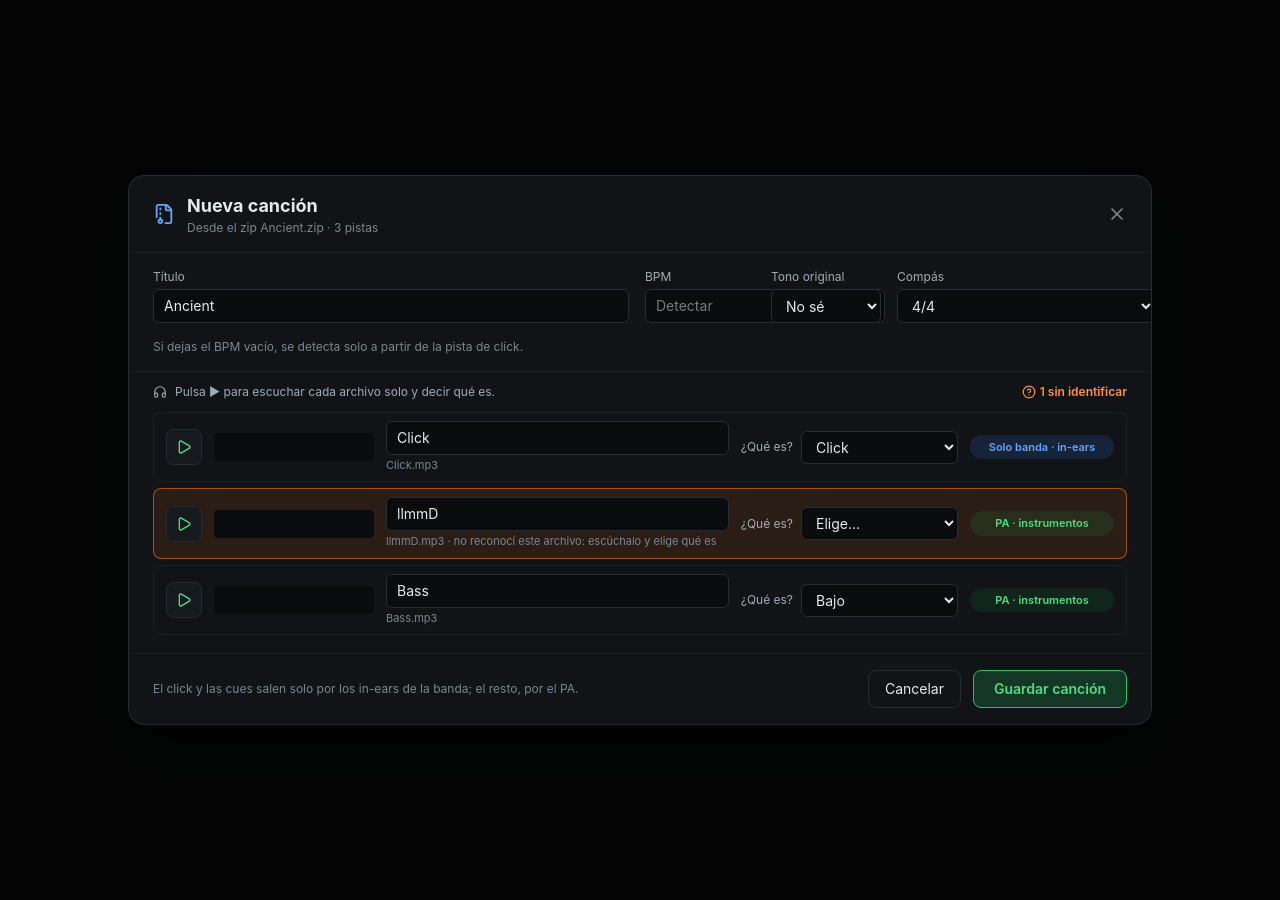
import dialog › asks about the unrecognised file and takes the instrument's name
Expected: the text "1 sin identificar" is shown, [1022, 384, 1127, 400]
Select "Batería" in the dropdown named "Qué es llmmD.mp3". click: x=880, y=524
box: [801, 507, 958, 540]
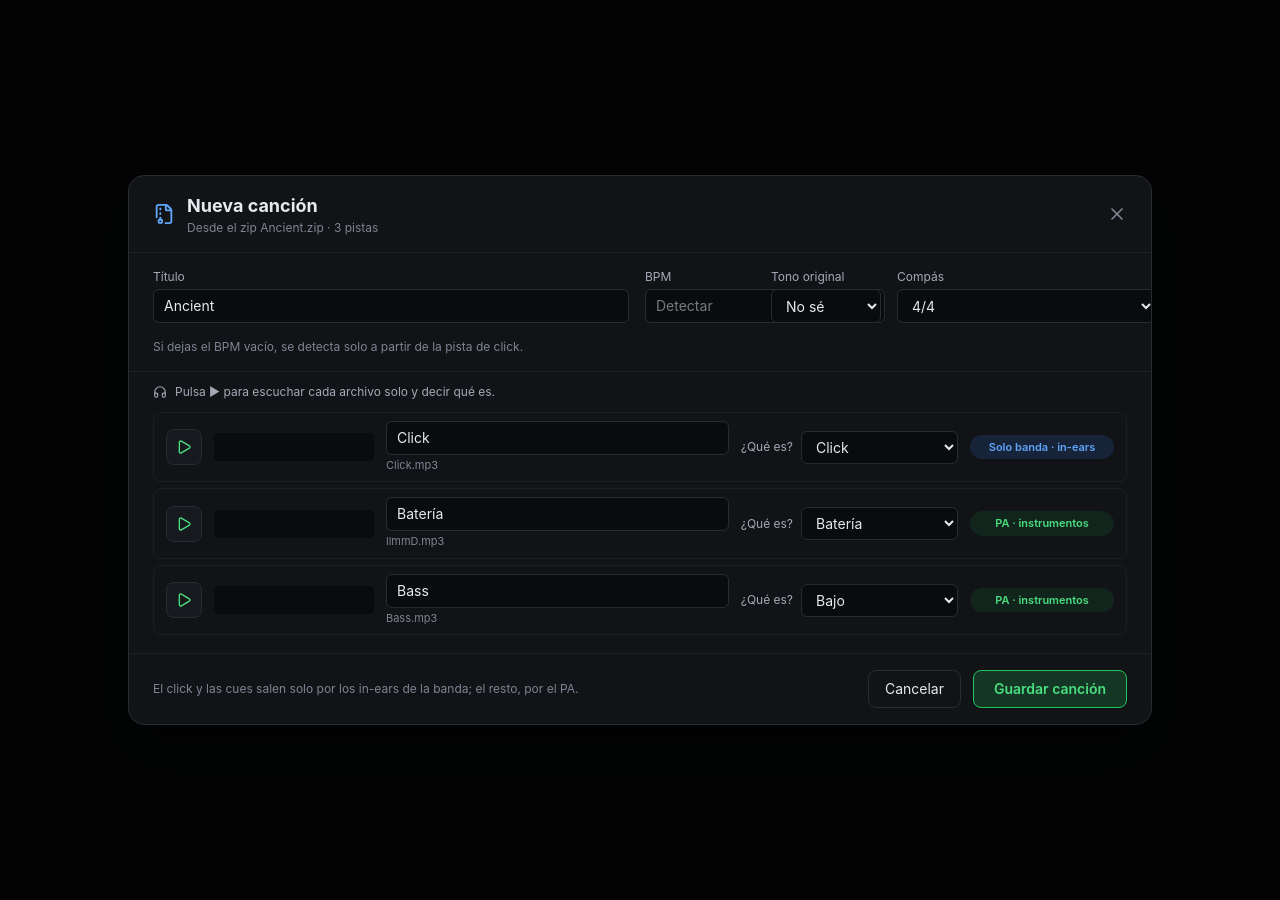
Expected: the field named "Nombre de llmmD.mp3" holds "Batería", [386, 497, 729, 531]
Expected: the text "sin identificar" is gone
Type "96" into the field labelled "BPM". click: x=765, y=306
box: [645, 289, 885, 323]
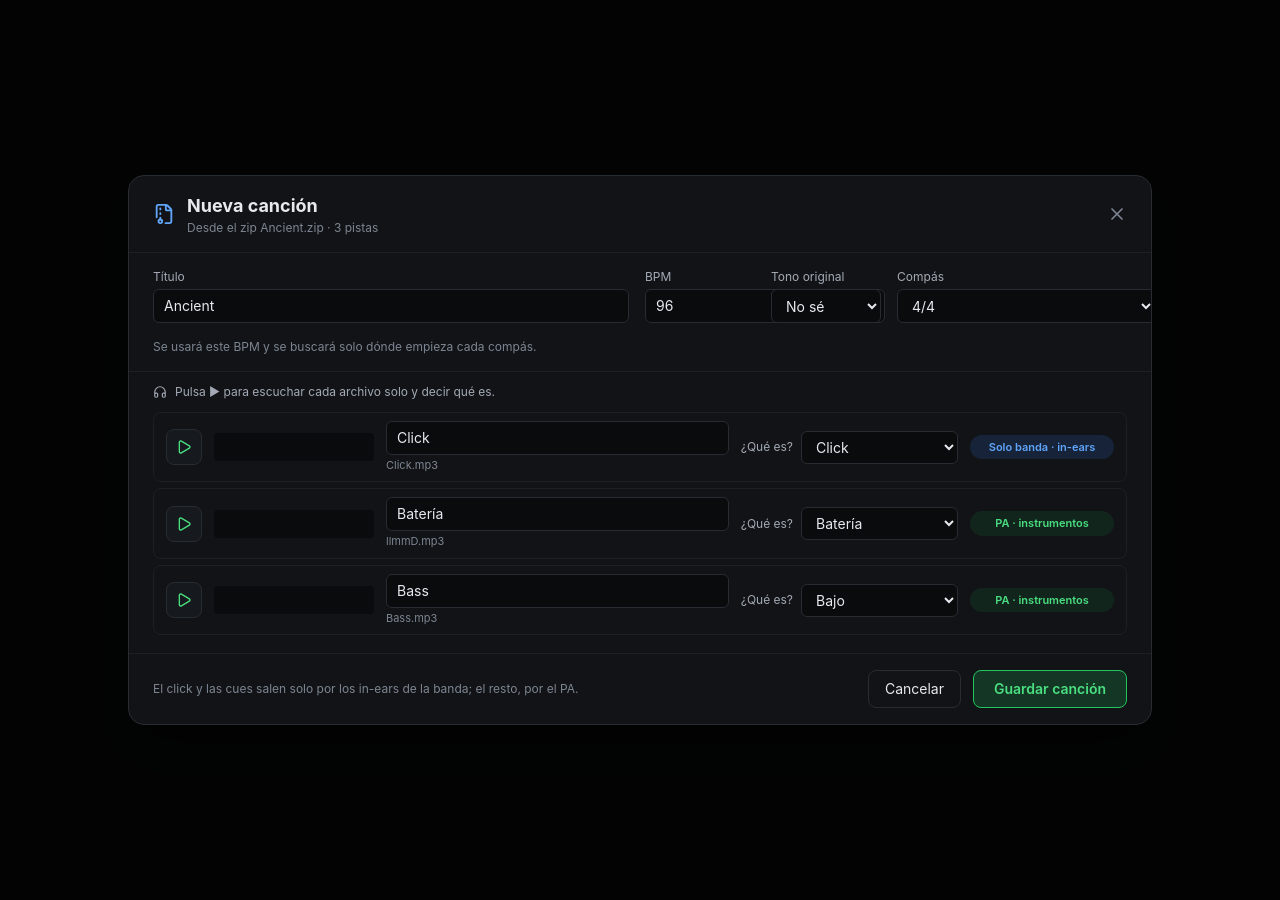
Select "6/8 (BPM en negra con puntillo)" in the dropdown labelled "Compás". click: x=1026, y=306
box: [897, 289, 1155, 323]
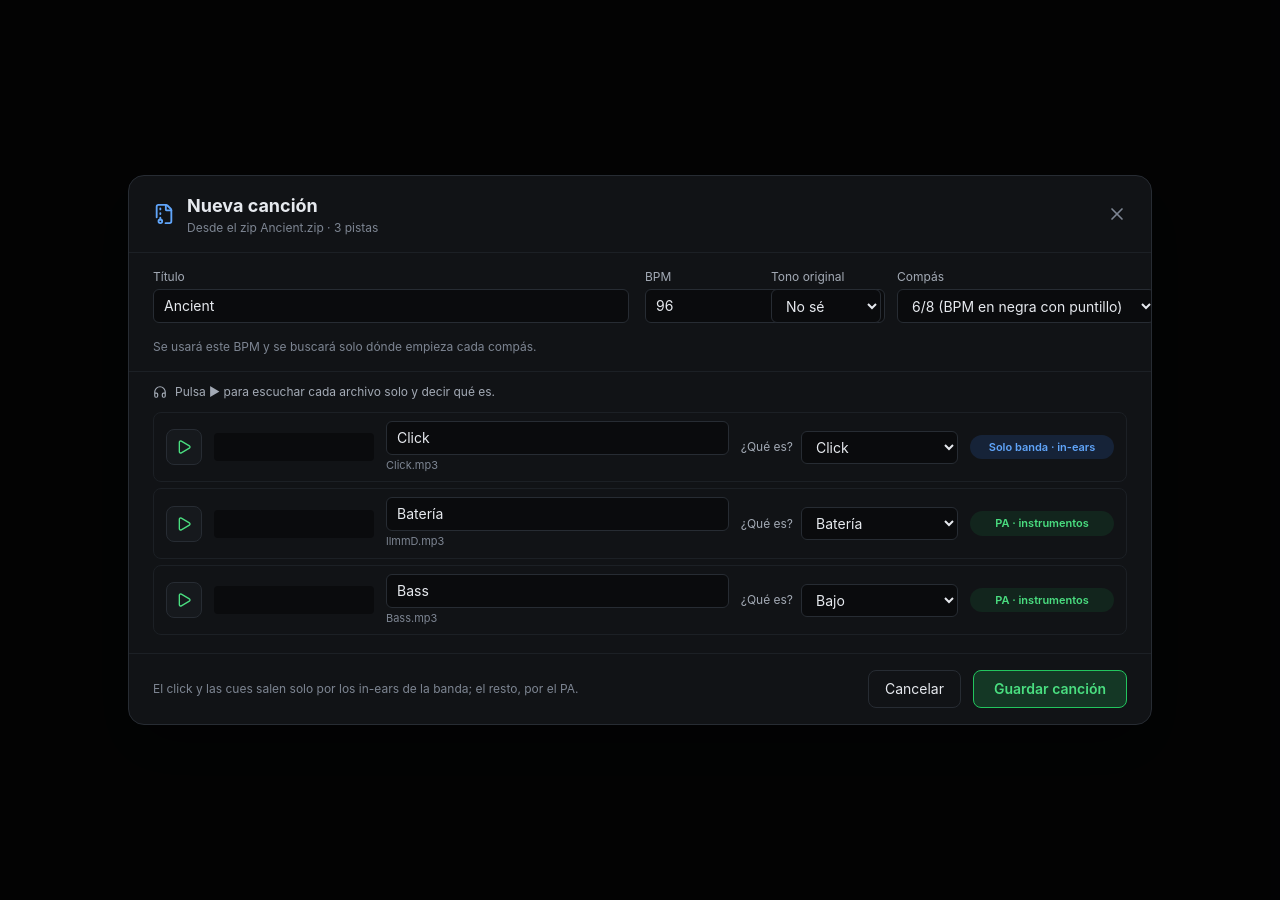
Select "D" in the dropdown labelled "Tono original". click: x=826, y=306
box: [771, 289, 881, 323]
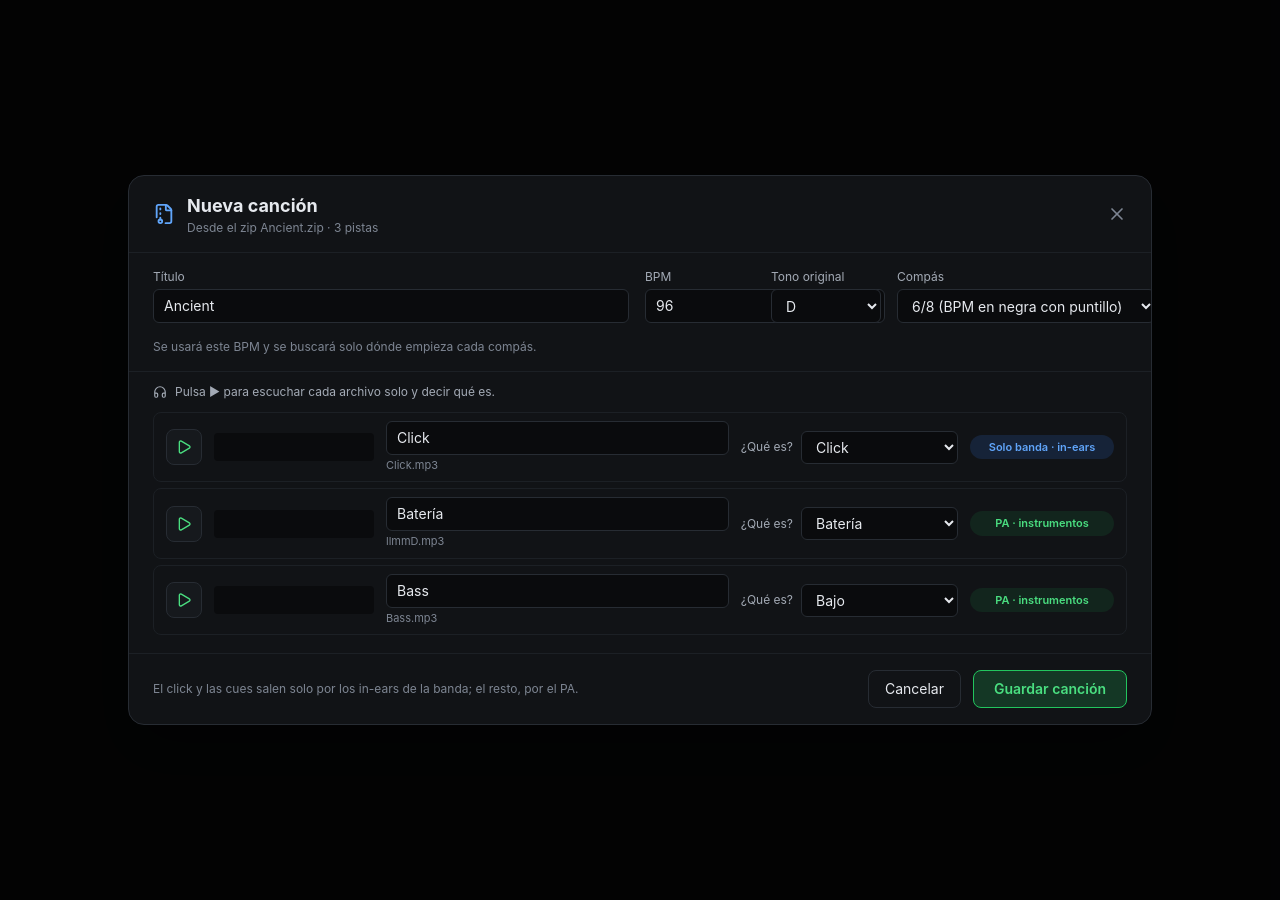
Click the button "Guardar canción". click: x=1050, y=689
box: [973, 670, 1127, 708]
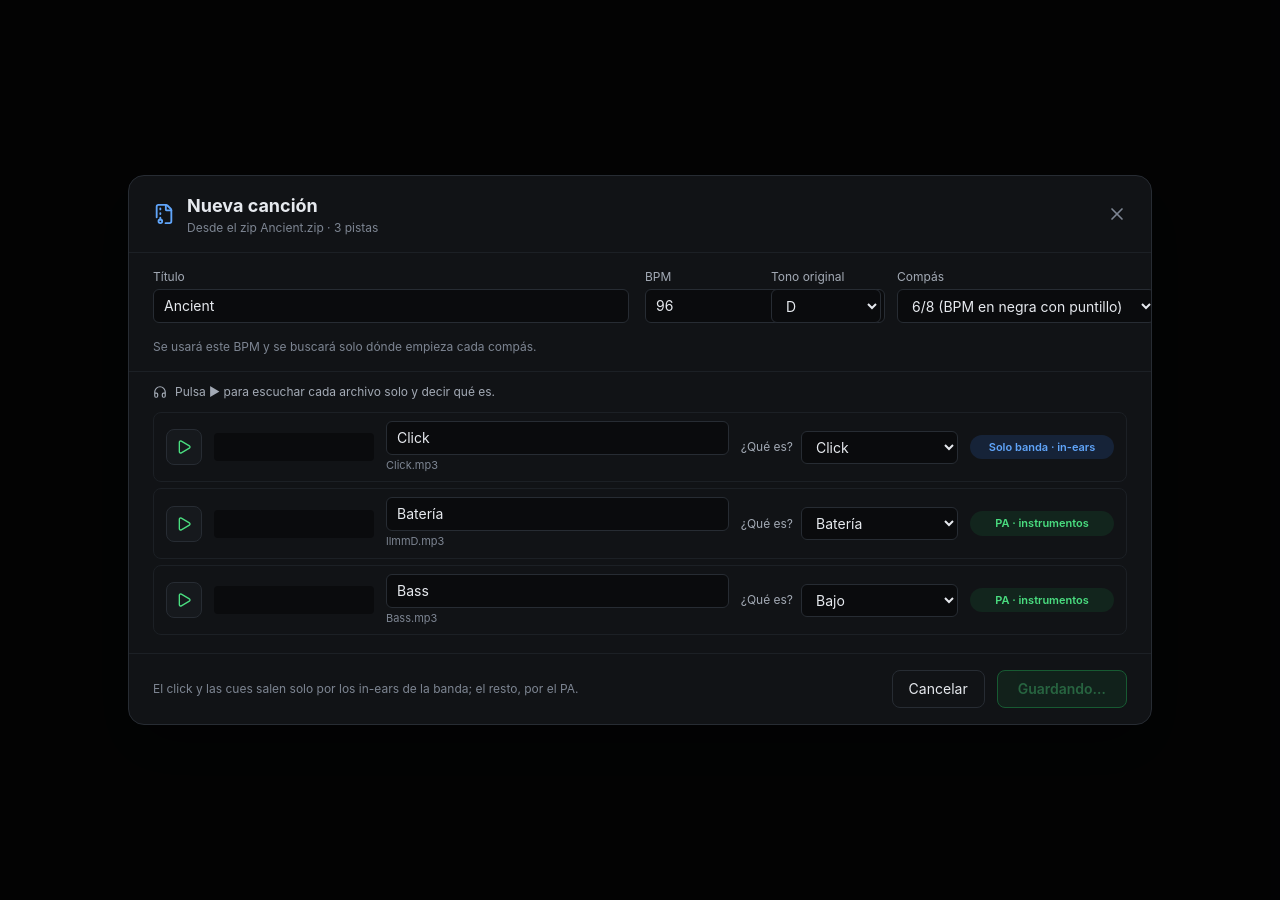
Expected: the button "Guardando…" is disabled, [997, 670, 1127, 708]
